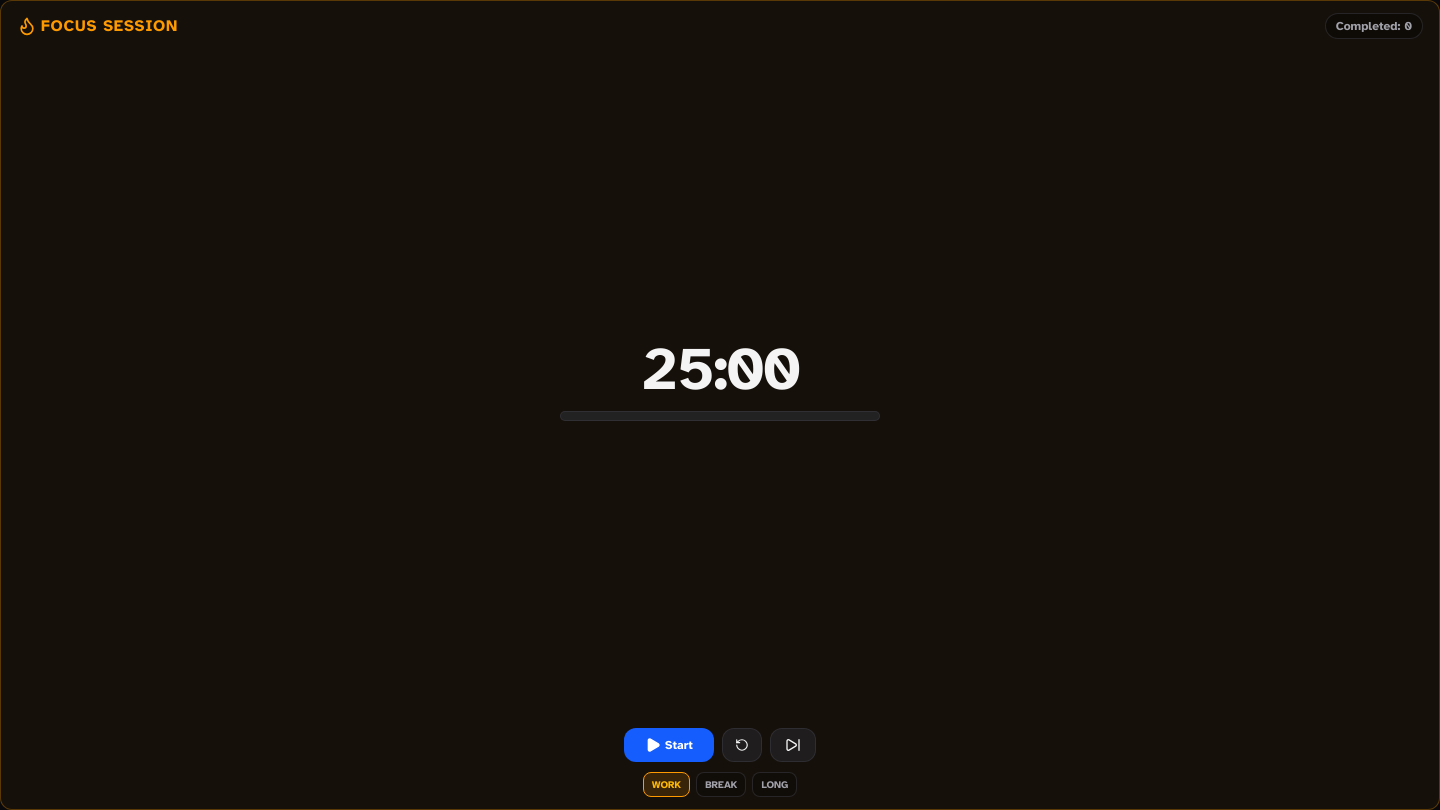
Test case: PomodoroWidget › renders mode selectors in editMode and switches modes
Expected: the button "work" is shown, x1=643 y1=772 x2=690 y2=797
Expected: the button "Long" is shown, x1=752 y1=772 x2=797 y2=797
# Switch to short break
Click the button "break" at (721, 784), box x1=696 y1=772 x2=746 y2=797
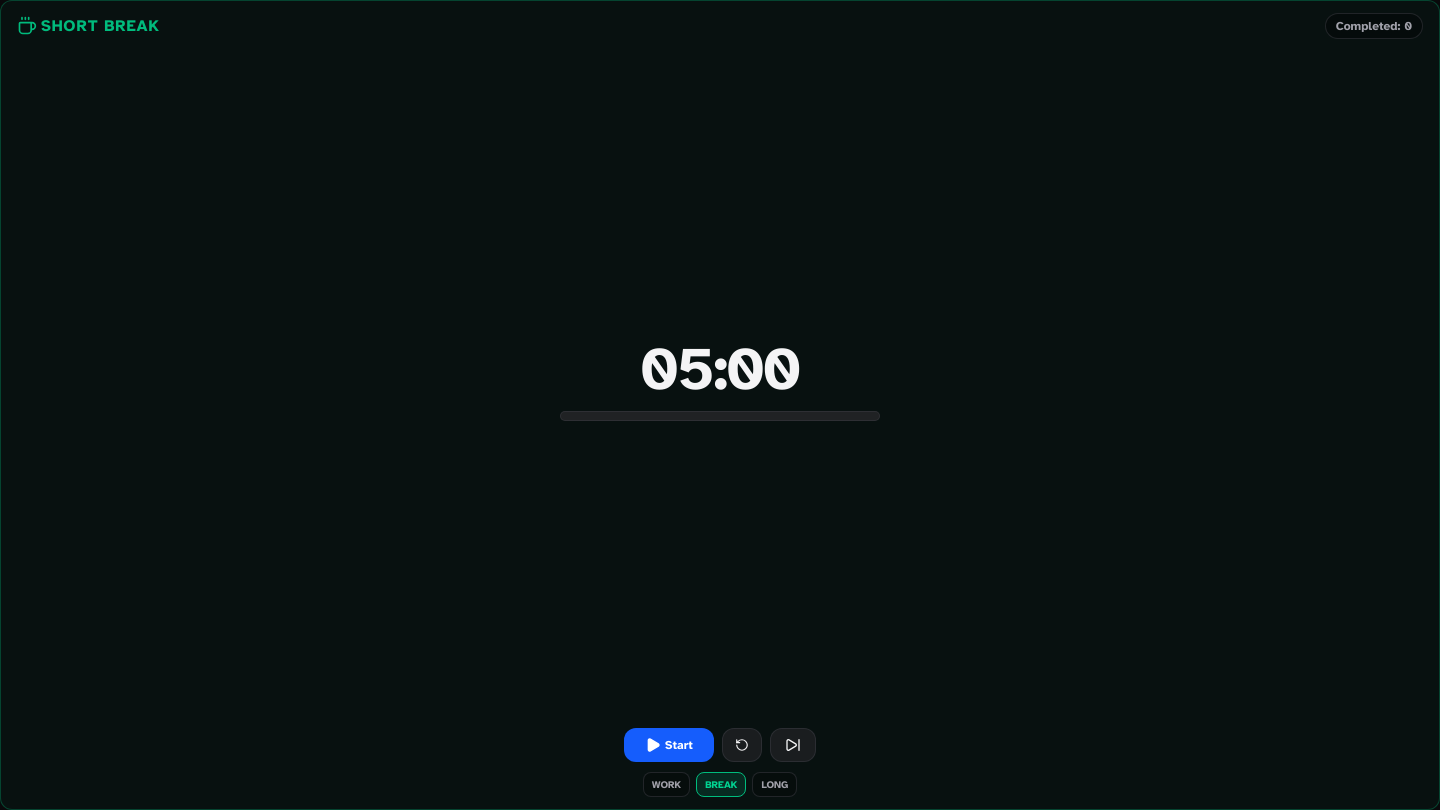
Expected: the text "Short Break" is shown, x1=41 y1=14 x2=160 y2=38
Expected: the text "05:00" is shown, x1=641 y1=338 x2=799 y2=398
# Switch to long break
Click the button "Long" at (775, 784), box x1=752 y1=772 x2=797 y2=797
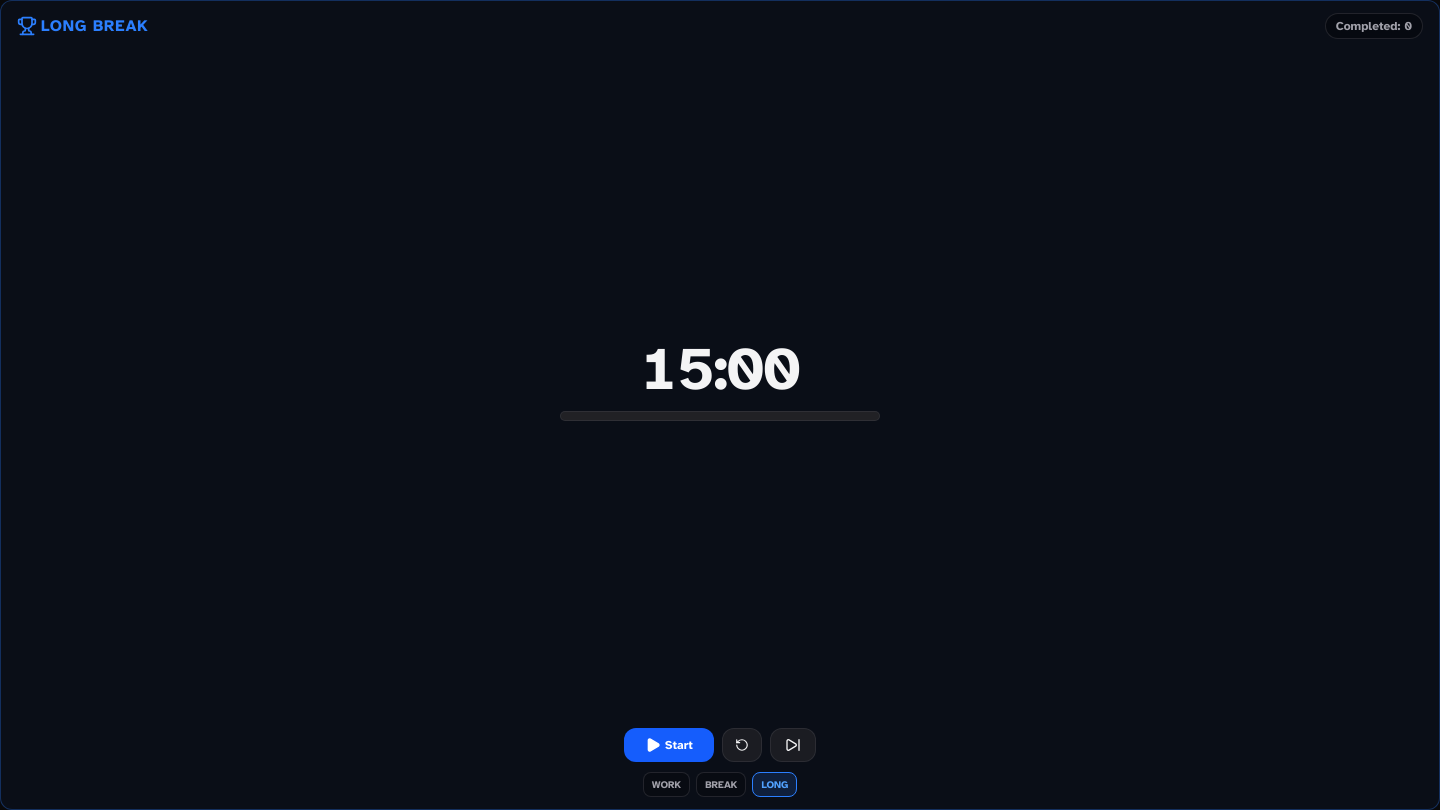
Expected: the text "Long Break" is shown, x1=41 y1=14 x2=149 y2=38
Expected: the text "15:00" is shown, x1=641 y1=338 x2=799 y2=398
# Switch back to work
Click the button "work" at (666, 784), box x1=643 y1=772 x2=690 y2=797
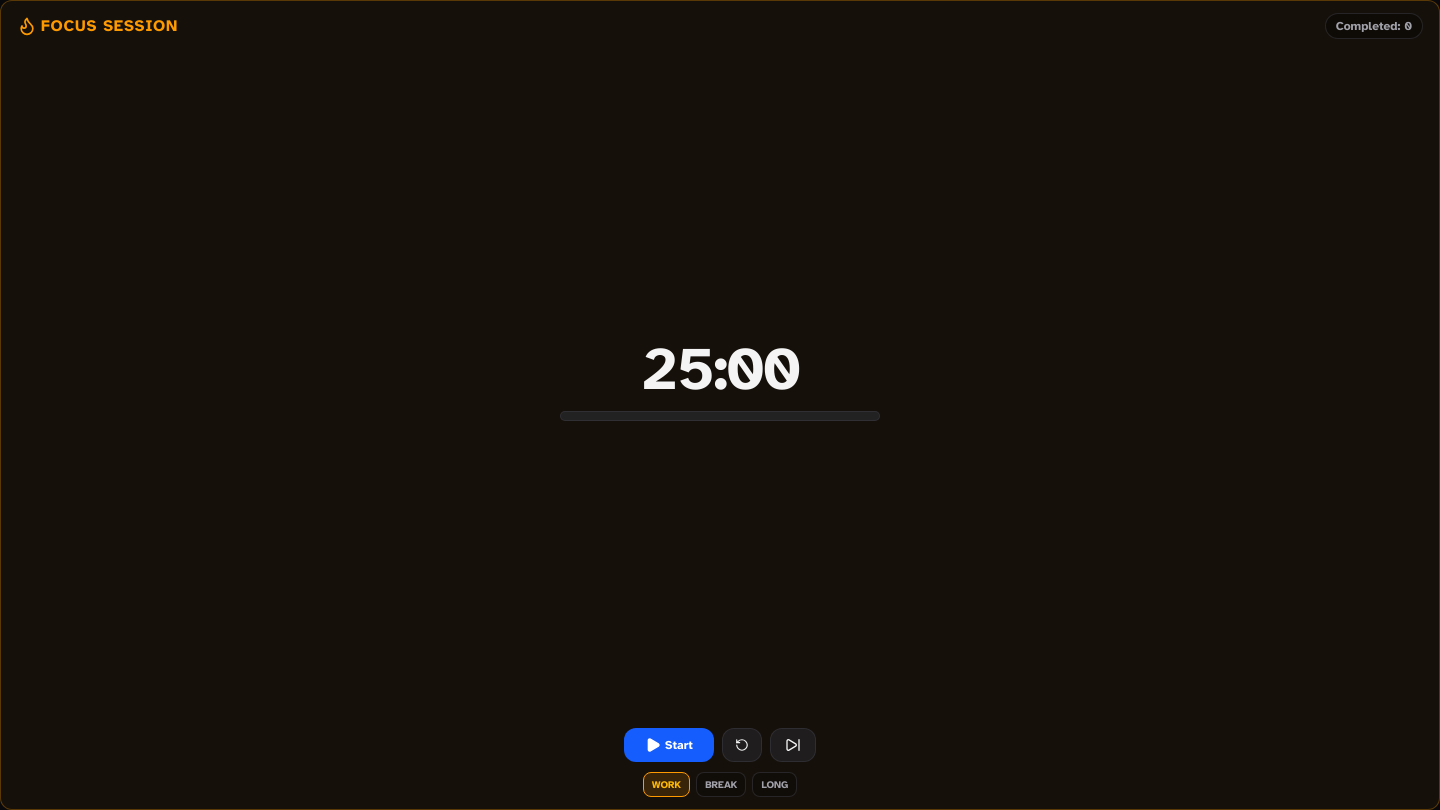
Expected: the text "Focus Session" is shown, x1=41 y1=14 x2=178 y2=38
Expected: the text "25:00" is shown, x1=641 y1=338 x2=799 y2=398
